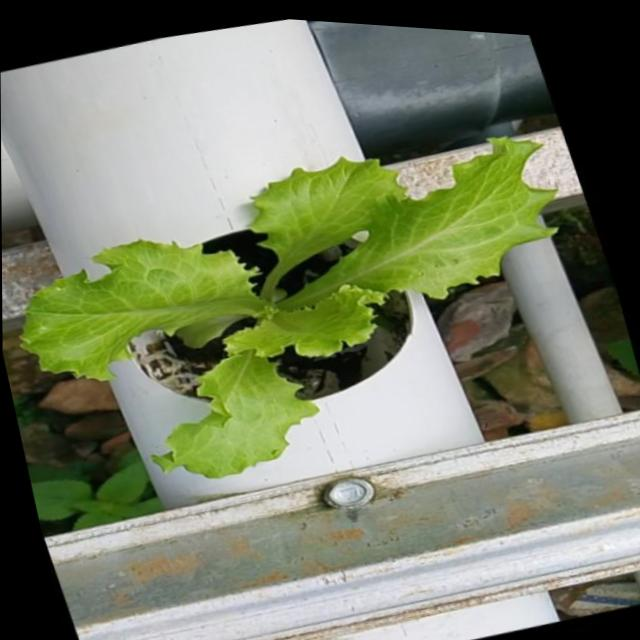Baby: (13, 134, 551, 476)
